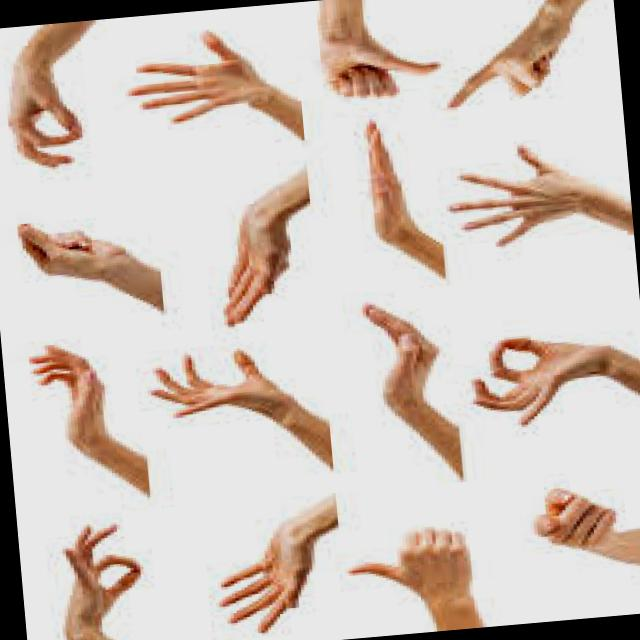Hand: (434, 134, 592, 253), (462, 322, 620, 433), (118, 22, 274, 132), (438, 0, 587, 114), (205, 516, 323, 640), (202, 194, 302, 329), (51, 514, 152, 639), (143, 340, 289, 426), (352, 292, 447, 409), (312, 27, 443, 107), (0, 58, 88, 175), (11, 208, 136, 290), (341, 523, 478, 596), (354, 110, 424, 246), (21, 333, 112, 436), (523, 477, 625, 558)
